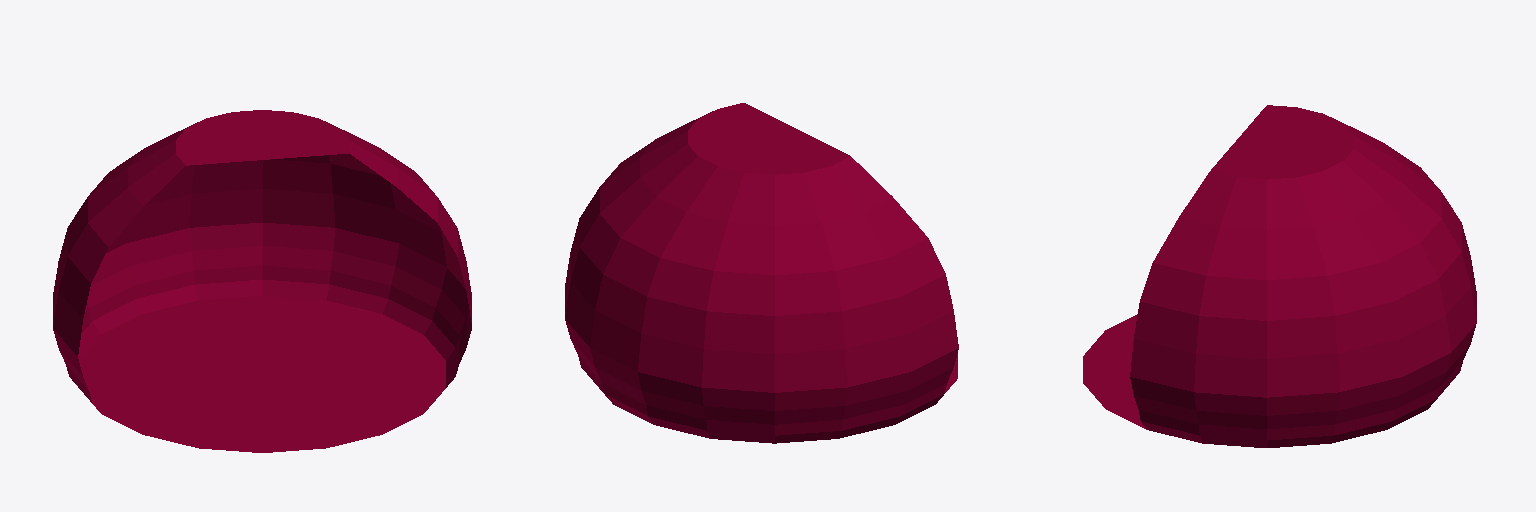
The model's file is dome.obj.
3 renders of one model, left to right at view 1: azimuth 30°, elevation 25°; view 2: azimuth 150°, elevation 25°; view 3: azimuth 270°, elevation 25°, orthographic.
Parts seen in each view (by area): view 1: dome; view 2: dome; view 3: dome.
Part boxes in pixels (bbox=[...]): dome: bbox=[53, 110, 471, 452]; dome: bbox=[565, 103, 958, 443]; dome: bbox=[1083, 105, 1476, 447].
Bounding box in the file's own units: 24160 × 14225 × 22310.